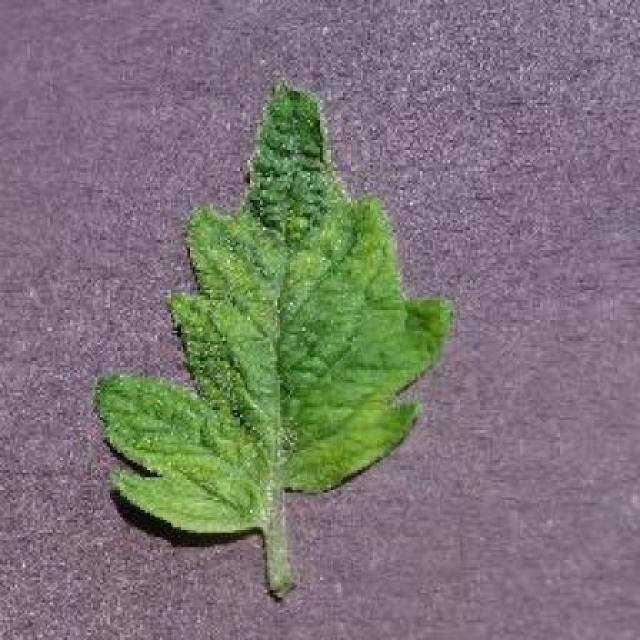Mosaic Virus: (95, 83, 454, 537)
